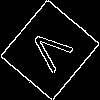V: (25, 25, 82, 81)
